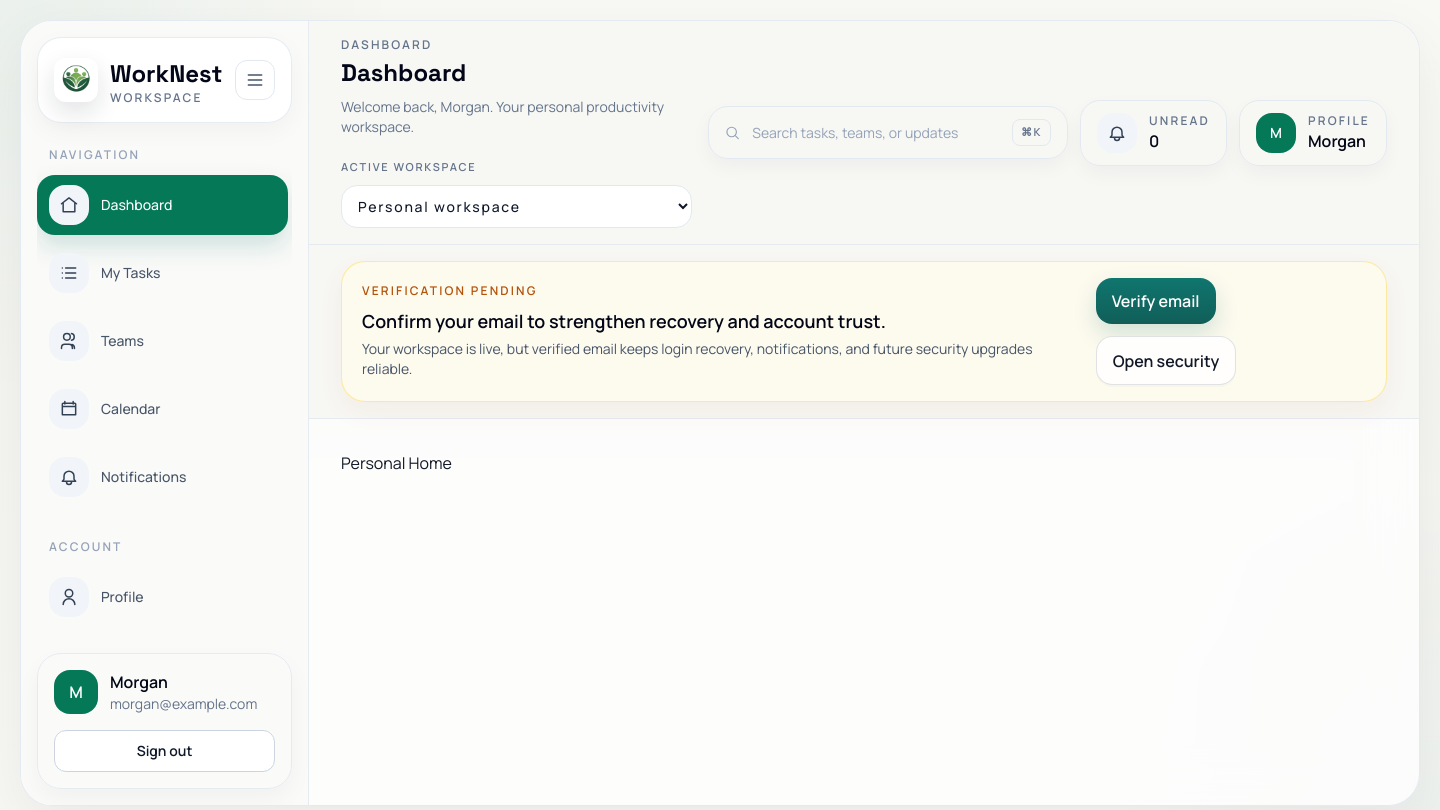
Test case: workspace switcher allows changing from personal to team workspace
Select "Delivery Team" in the dropdown labelled "Active workspace" at point(516, 206), box [341, 185, 692, 228]
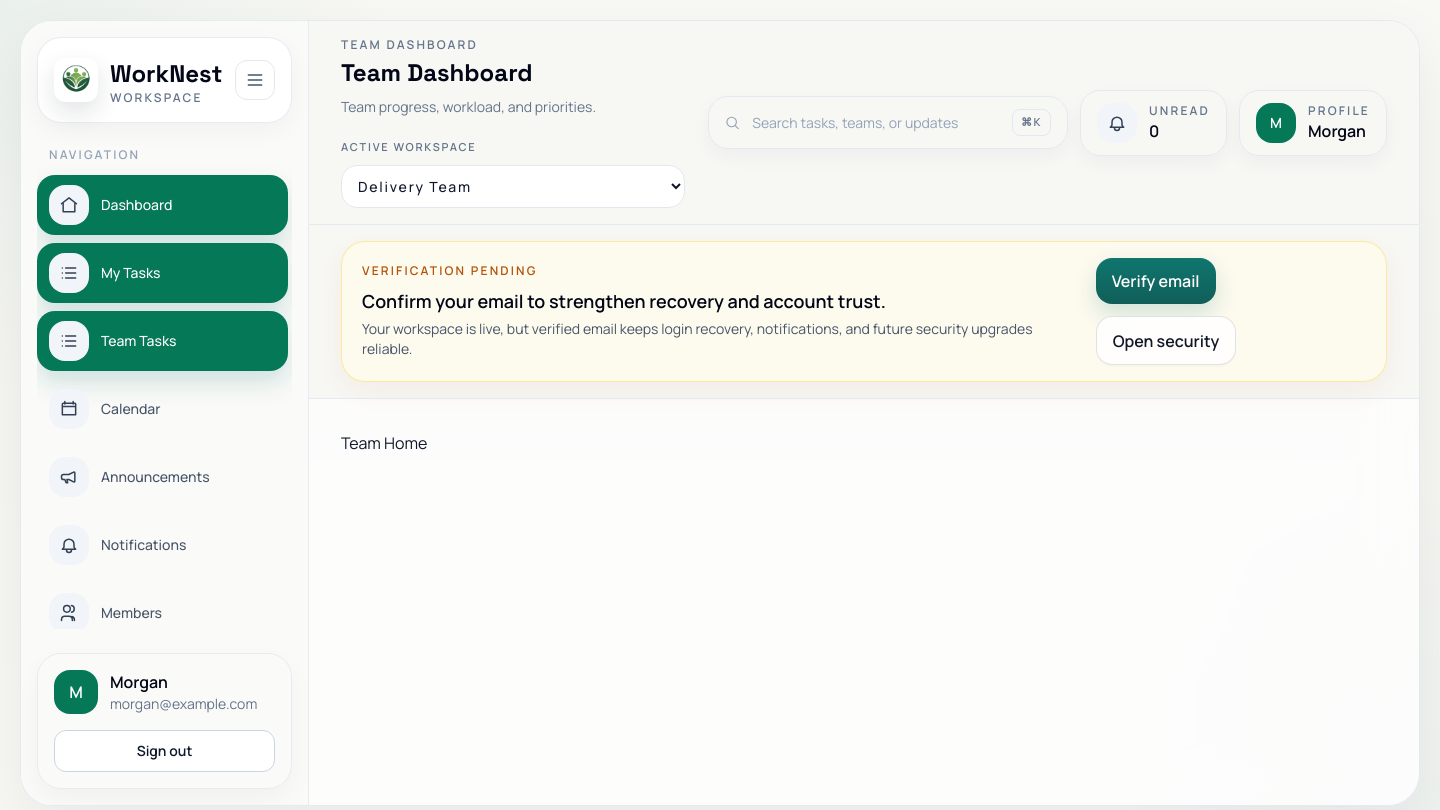
expect the text "Team Home" is shown: met, box [341, 432, 427, 454]
